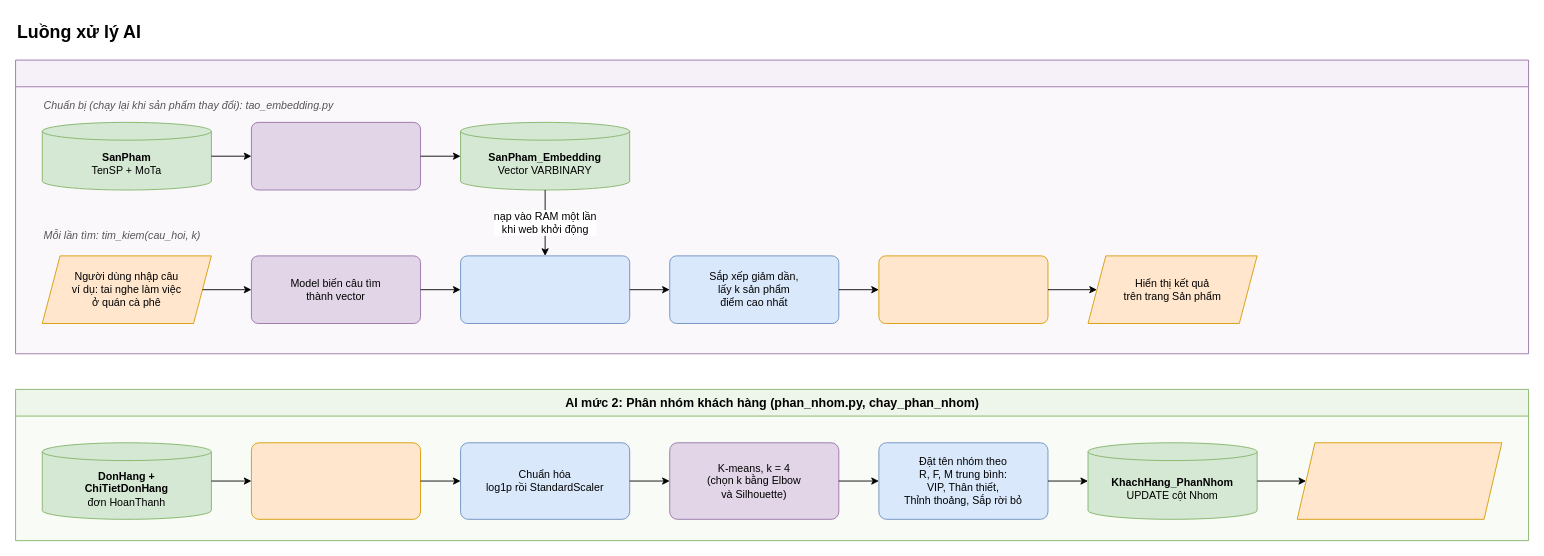
Some shapes in this 1544 by 556 pixel diagram are drawn without their labels. The box of each missing label's shape, as (x1, y1, x2, y2) in pixels:
AI mức 1: Tìm kiếm ngữ nghĩa sản phẩm: (15, 59, 1529, 354)
EXEC sp_PhanNhom_ThongKe vẽ biểu đồ ở trang Khách hàng: (1296, 442, 1502, 519)
EXEC sp_SanPham_LayTheoDS lấy tên, giá, tồn kho theo đúng thứ tự: (878, 255, 1048, 324)
EXEC sp_TinhRFM R: số ngày từ lần mua cuối F: số đơn, M: tổng tiền: (251, 442, 421, 519)
Model biến mỗi sản phẩm thành vector 384 chiều (đã chuẩn hóa): (251, 121, 421, 190)
Tính độ giống với mọi sản phẩm (tích vô hướng): (460, 255, 630, 324)
